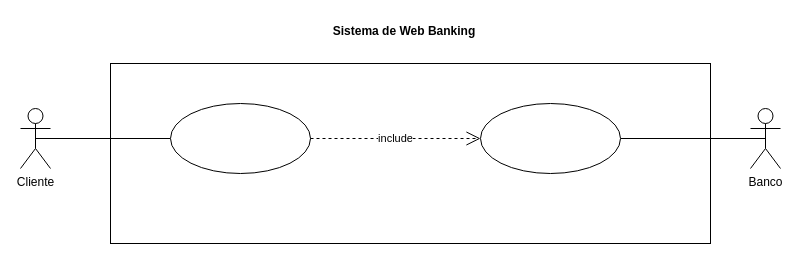
Some shapes in this 800 by 261 pixel diagram are drawn without their labels. Here are the shapes that lost their labels. From the top down, the centre of each, then its label:
At (x=240, y=138): "Operación".
At (x=550, y=138): "Validar Pin de Transacción".
